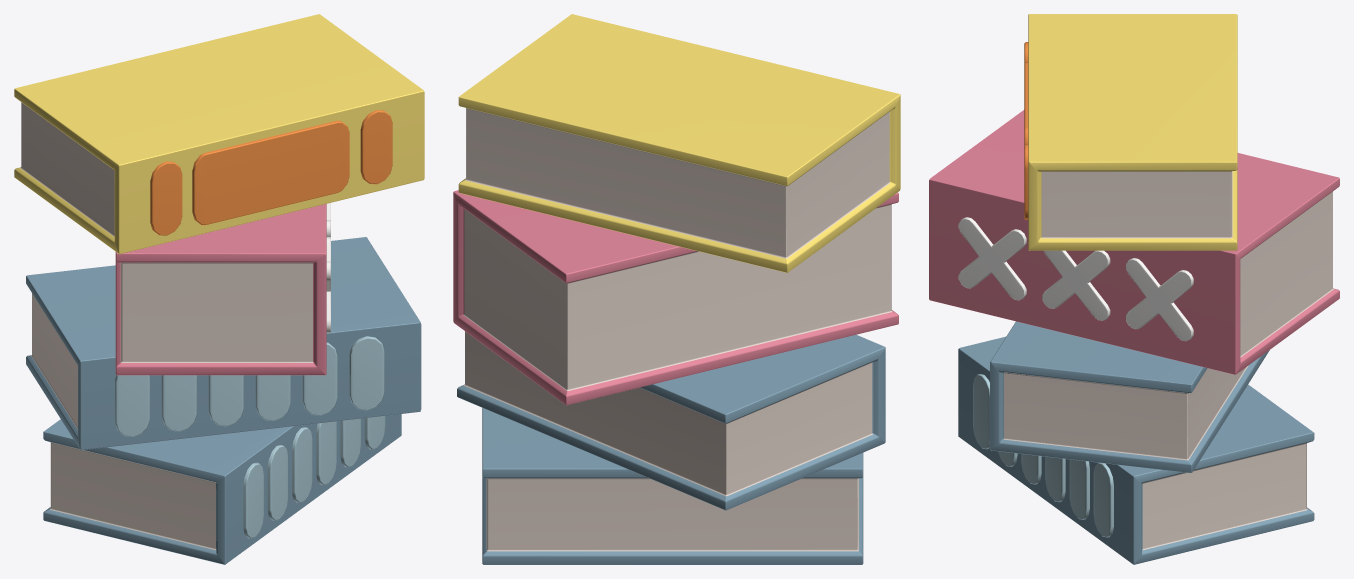
Rendered from Book_3.glb.
The picture shows the model from 3 angles, left to right: view 1: azimuth 30°, elevation 25°; view 2: azimuth 150°, elevation 25°; view 3: azimuth 270°, elevation 25°; orthographic projection. The views are drawn at different scales.
Visible parts, largest first — view 1: Books_4; view 2: Books_4; view 3: Books_4.
Part boxes in pixels (x1,y1,x2,y2): Books_4: (14, 14, 424, 564); Books_4: (453, 14, 900, 564); Books_4: (929, 14, 1339, 564).
Bounding box in the file's own units: 0.4223 × 0.445 × 0.4258.
Materials: 1 (1 with a texture image).
